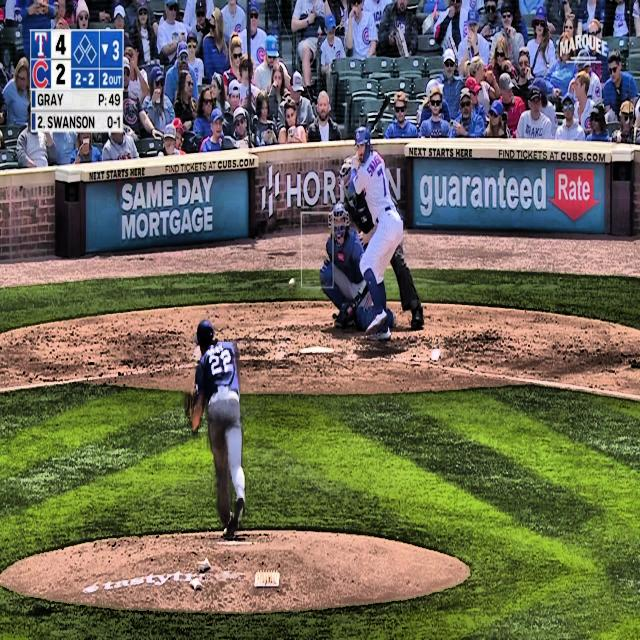baseball: (288, 277, 296, 288)
